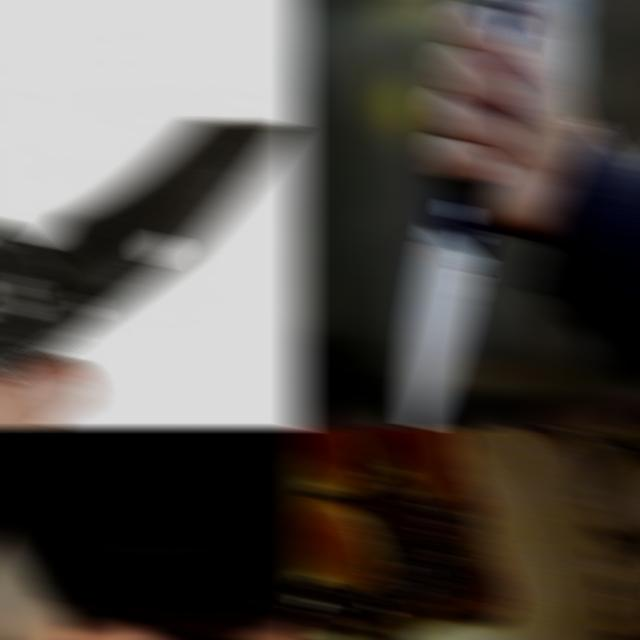Knife: (0, 120, 295, 375), (403, 181, 499, 429), (0, 442, 75, 640)
Knife_Handle: (388, 0, 586, 429), (0, 441, 220, 640)
